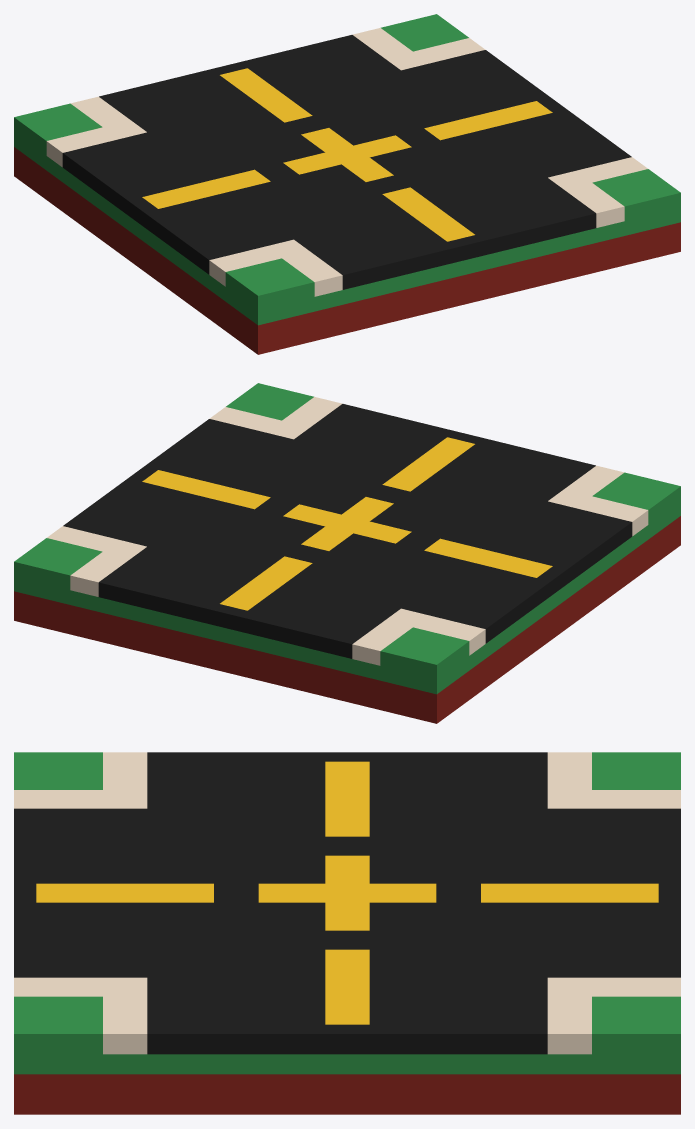
File: 4wayRoad.obj
3 renders of one model, top to bottom at view 1: azimuth 30°, elevation 25°; view 2: azimuth 150°, elevation 25°; view 3: azimuth 270°, elevation 25°, orthographic. The views are drawn at different scales.
Size of the model in its own units: 3 by 0.4 by 3.
Materials: 1 (1 with a texture image).
